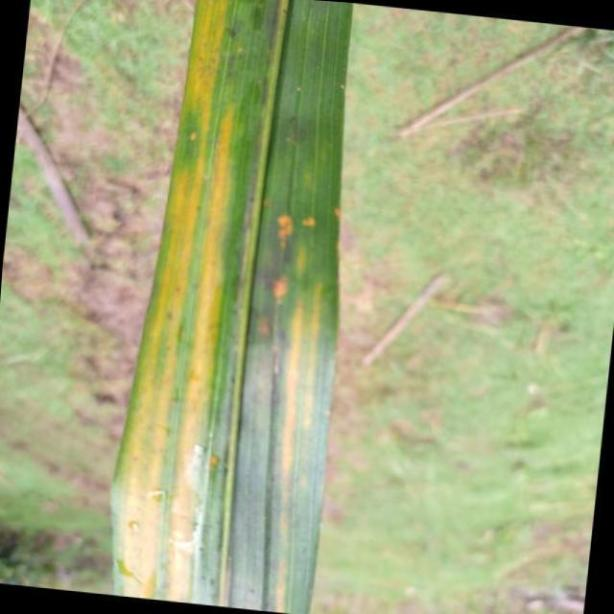Megnesium: (110, 0, 354, 614)
